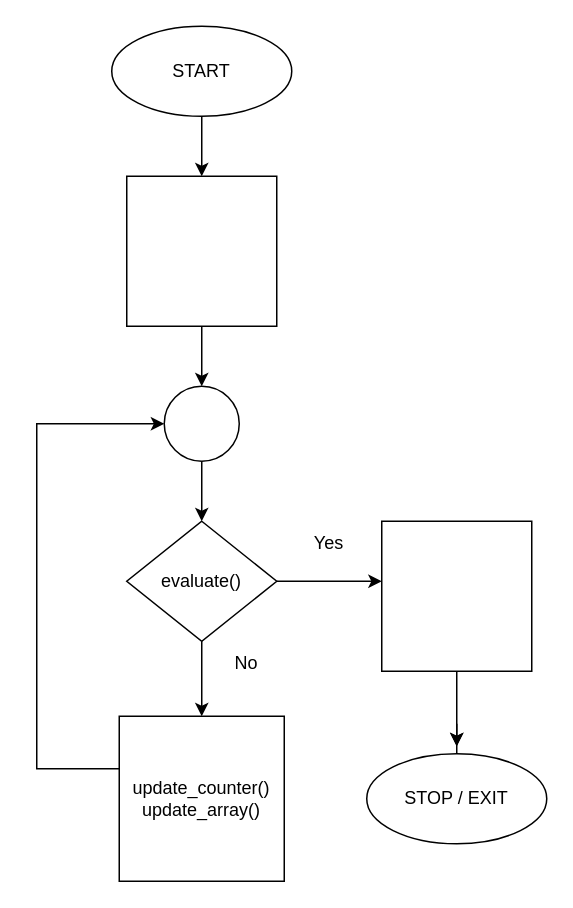
Some shapes in this 573 by 908 pixel diagram are drawn without their labels. The centre of each missing label's shape, as x and y in pixels:
counter = 0 array = [3, 4, 5] new_array = [ ]: (x=201, y=250)
return new_array: (x=456, y=595)
